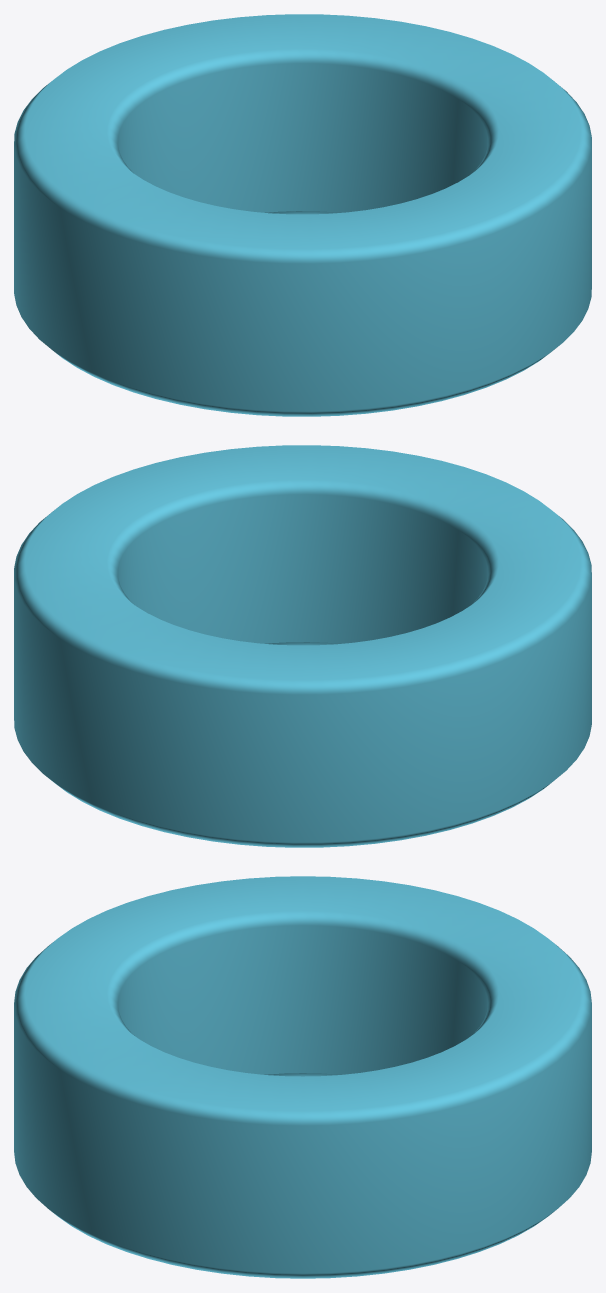
3 views of the same model, one above another, from view 1: azimuth 30°, elevation 25°; view 2: azimuth 150°, elevation 25°; view 3: azimuth 270°, elevation 25° (orthographic).
Parts seen in each view (by area): view 1: seal_body; view 2: seal_body; view 3: seal_body.
Part boxes in pixels (x1,y1,x2,y2): seal_body: [14, 14, 591, 416]; seal_body: [14, 445, 591, 847]; seal_body: [14, 876, 591, 1278].
Bounding box in the file's own units: 0.0125 × 0.004 × 0.0125.
